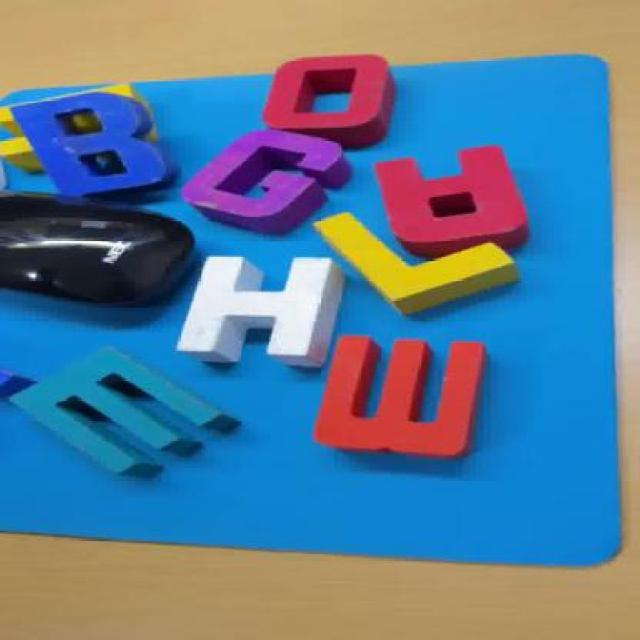B: (8, 88, 180, 201)
G: (180, 131, 335, 229)
H: (166, 250, 345, 372)
L: (302, 213, 528, 318)
M: (12, 349, 242, 480)
O: (241, 53, 404, 152)
W: (323, 334, 497, 474)
